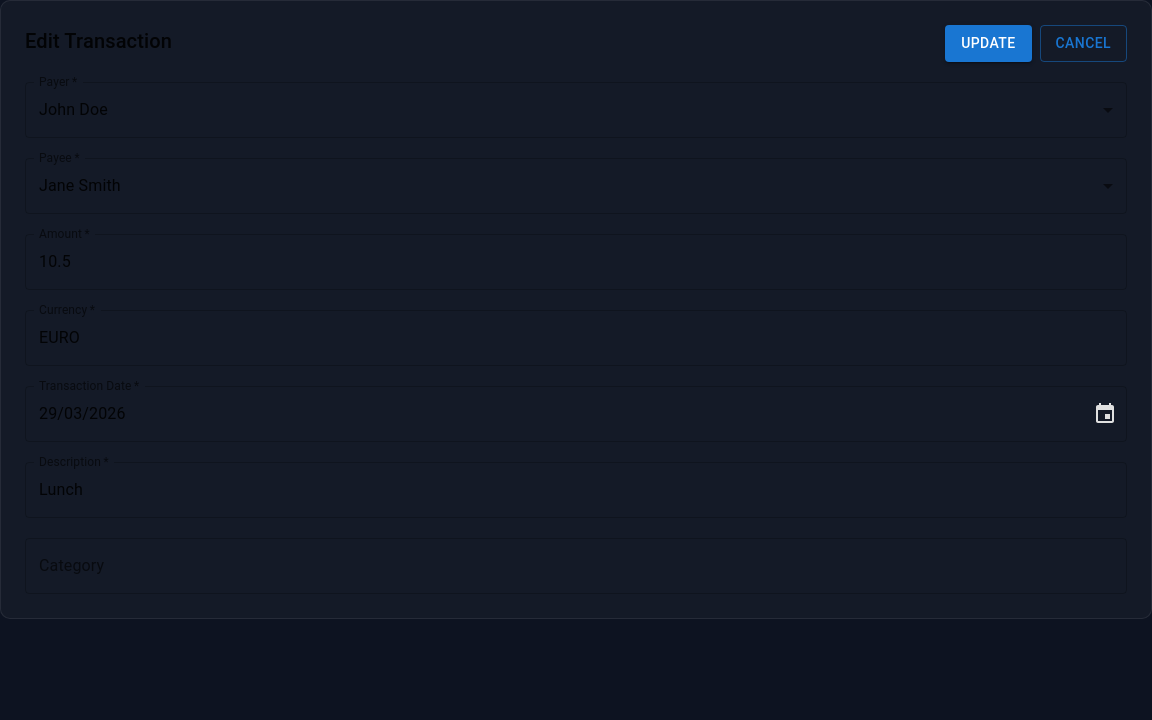
Test case: shows validation error when currency code is invalid
Click the button "Update" at (988, 43), box [945,25,1032,62]
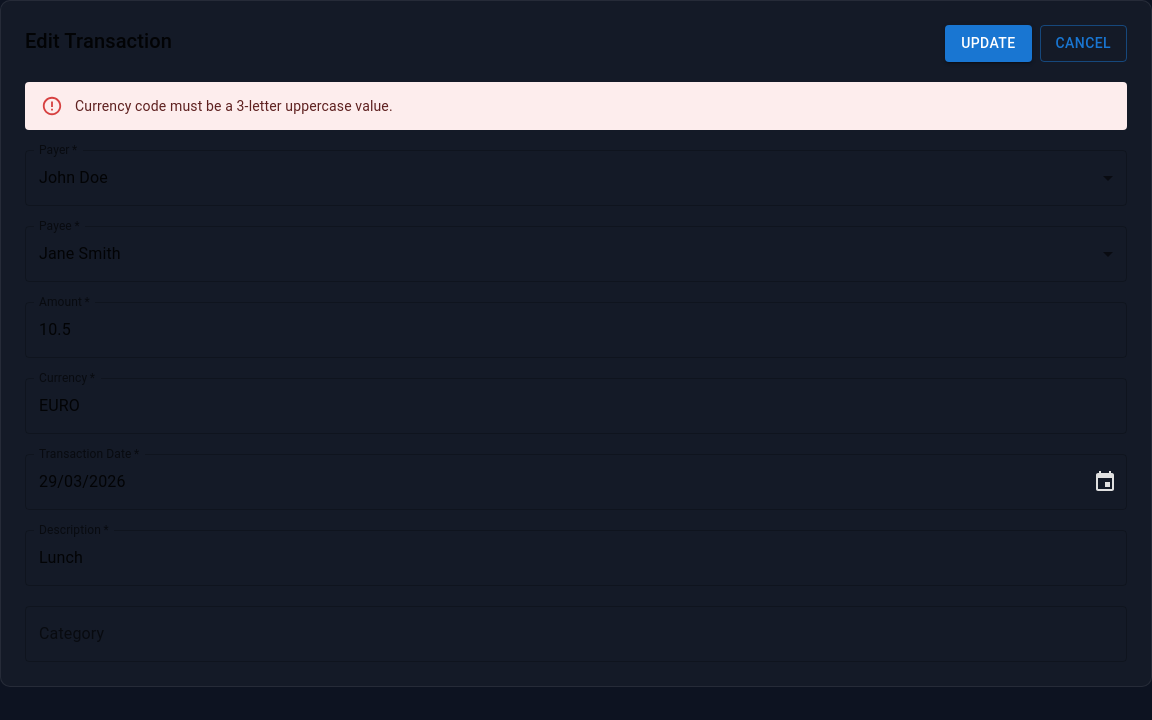
Expected: the text "Currency code must be a 3-letter uppercase value." is shown, [75,98,393,114]
